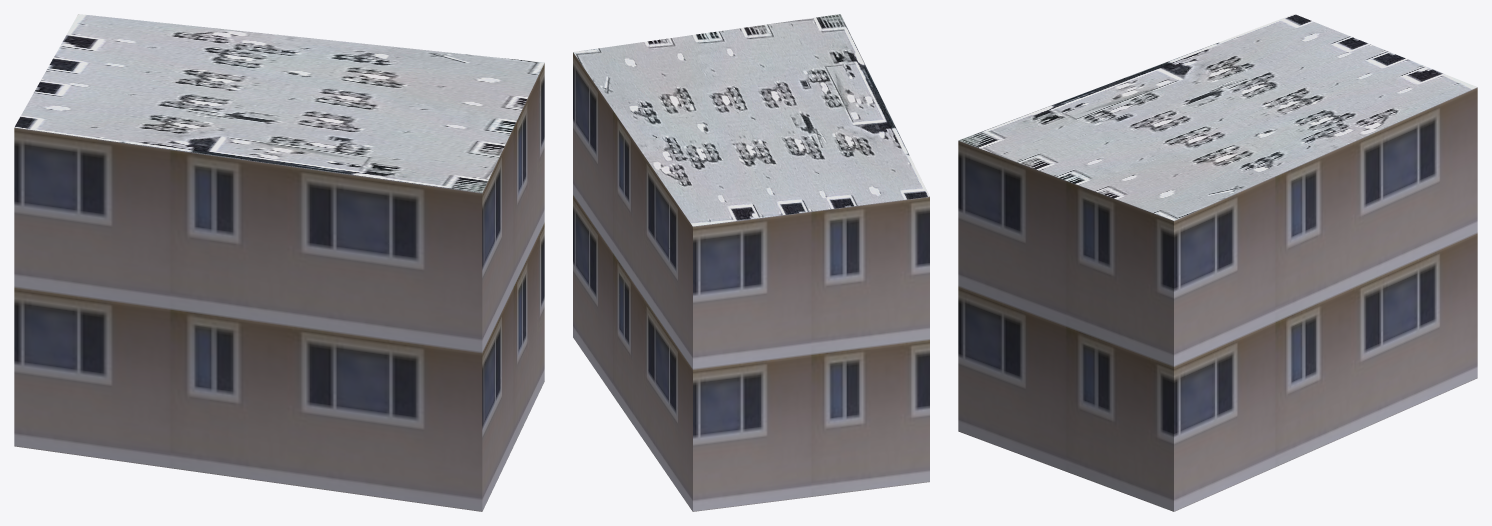
The model's file is ResTex__1402.fbx.
3 renders of one model, left to right at view 1: azimuth 30°, elevation 25°; view 2: azimuth 150°, elevation 25°; view 3: azimuth 270°, elevation 25°, orthographic. The views are drawn at different scales.
Parts seen in each view (by area): view 1: CityEngineMaterial_21_m, CityEngineMaterial_8_m; view 2: CityEngineMaterial_21_m, CityEngineMaterial_8_m; view 3: CityEngineMaterial_21_m, CityEngineMaterial_8_m.
Boxes of the visible parts, x1,y1,x2,y2 form: CityEngineMaterial_21_m: (14,63,544,511); CityEngineMaterial_8_m: (14,14,544,192); CityEngineMaterial_21_m: (573,52,929,511); CityEngineMaterial_8_m: (573,14,929,226); CityEngineMaterial_21_m: (958,87,1477,511); CityEngineMaterial_8_m: (958,14,1477,220).
Size of the model in its own units: 9.15 by 6 by 9.71.
2 materials, 2 textured.
